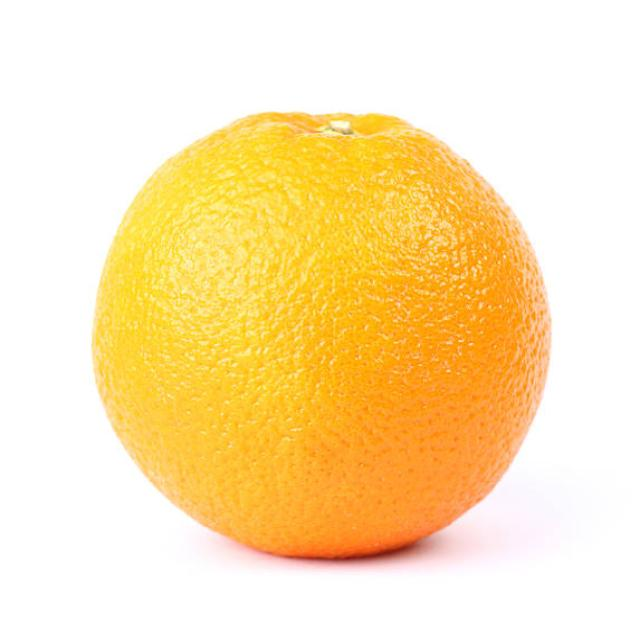Good_Orange: (89, 112, 554, 563)
